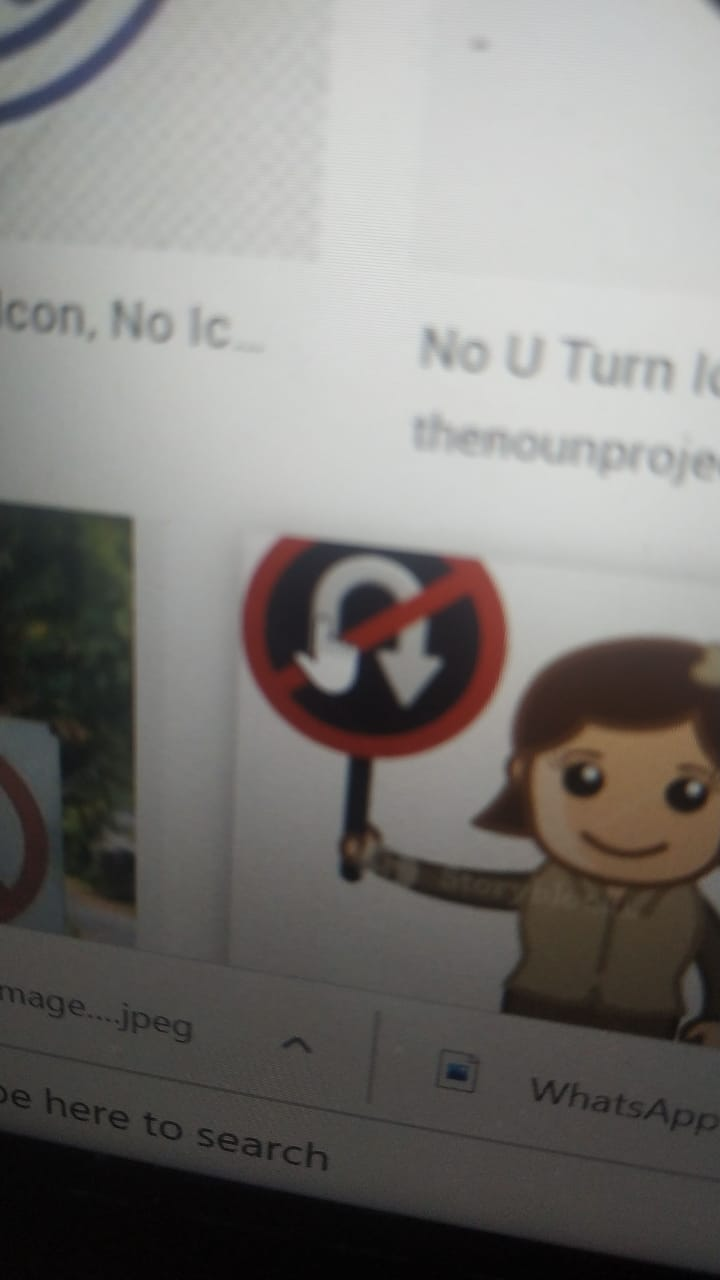NO U-TURN: (235, 460, 522, 788)
